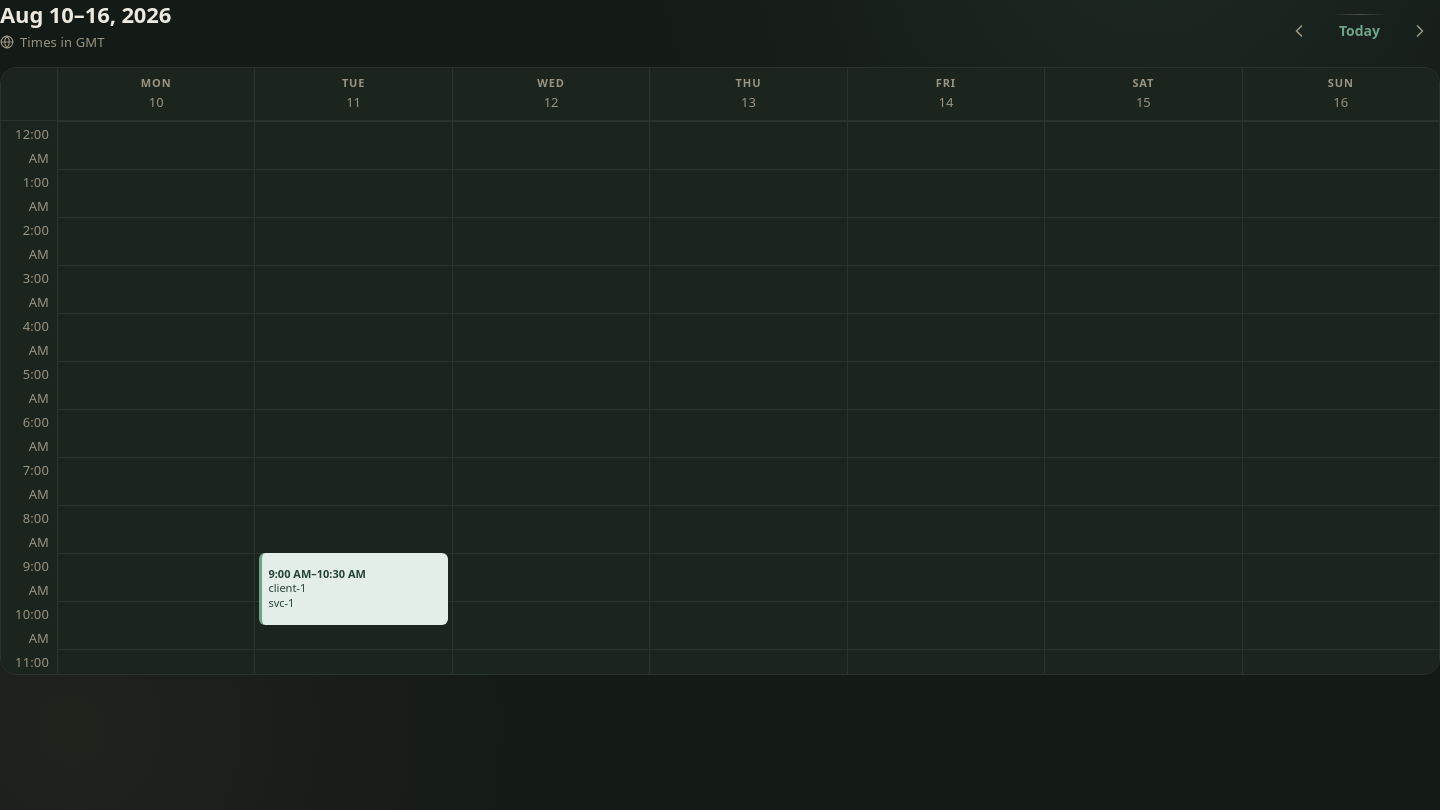
WeekCalendar › opens the detail modal with client, service, time and status
Click the button with aria-label "9:00 AM to 10:30 AM, client-1, svc-1, Confirmed": [354, 589] box top-left (259, 553), bottom-right (448, 625)
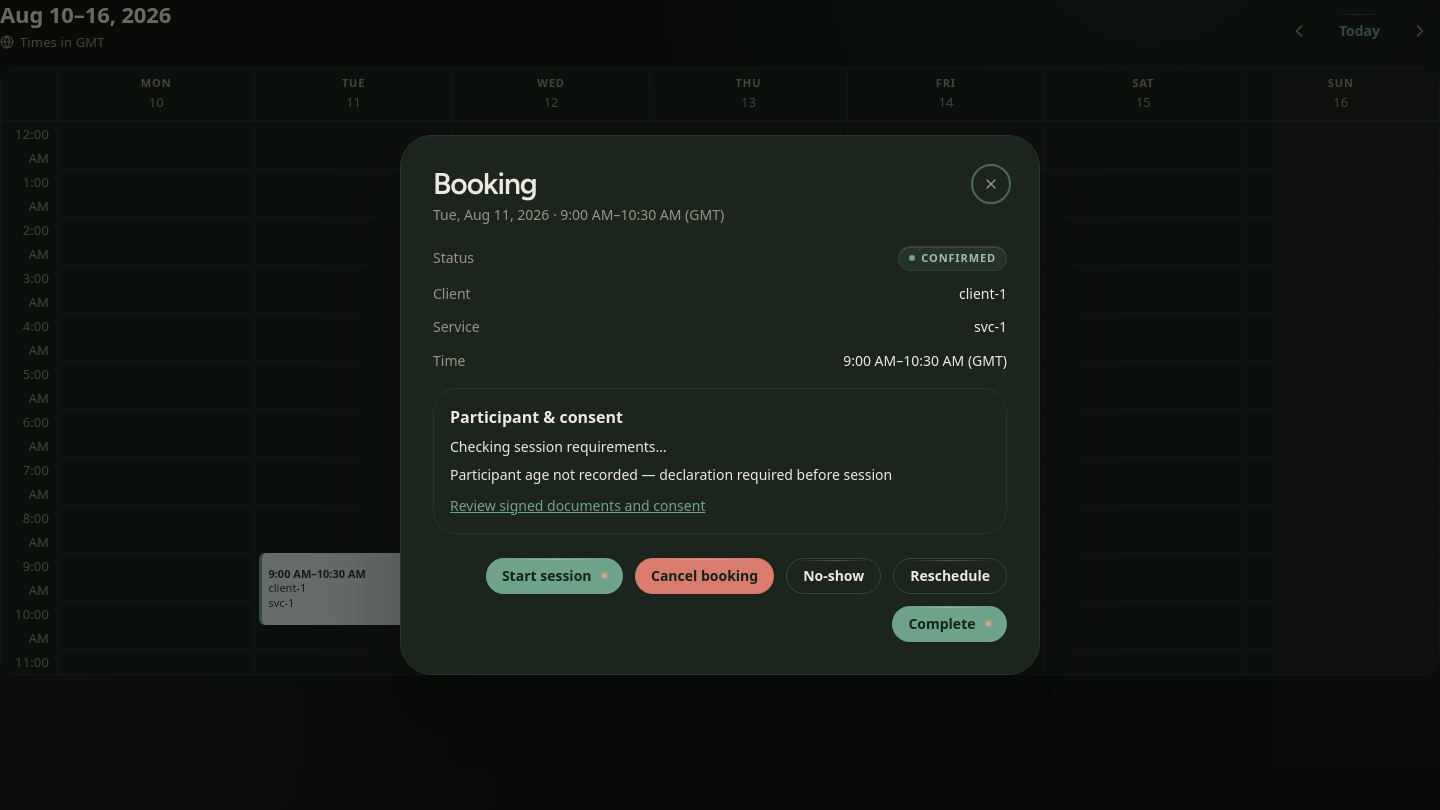
expect the text "client-1" is shown: met, box top-left (959, 283), bottom-right (1007, 304)
expect the text "svc-1" is shown: met, box top-left (974, 316), bottom-right (1007, 338)
expect the text "Confirmed" is shown: met, box top-left (898, 246), bottom-right (1007, 271)
